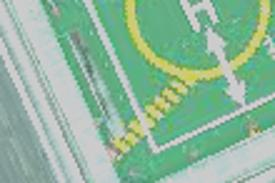Apron: (112, 1, 272, 84)
